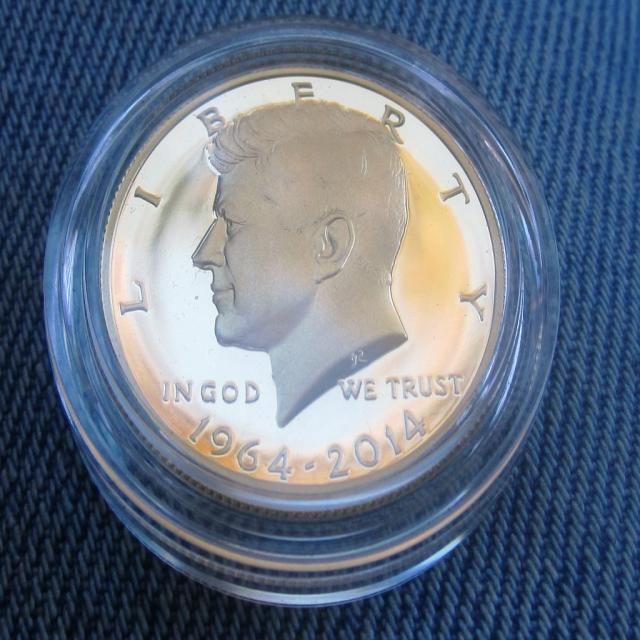Coin: (96, 63, 508, 524)
